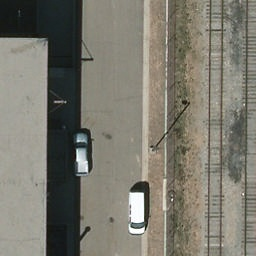car: (71, 131, 92, 177)
van: (127, 190, 147, 235)
